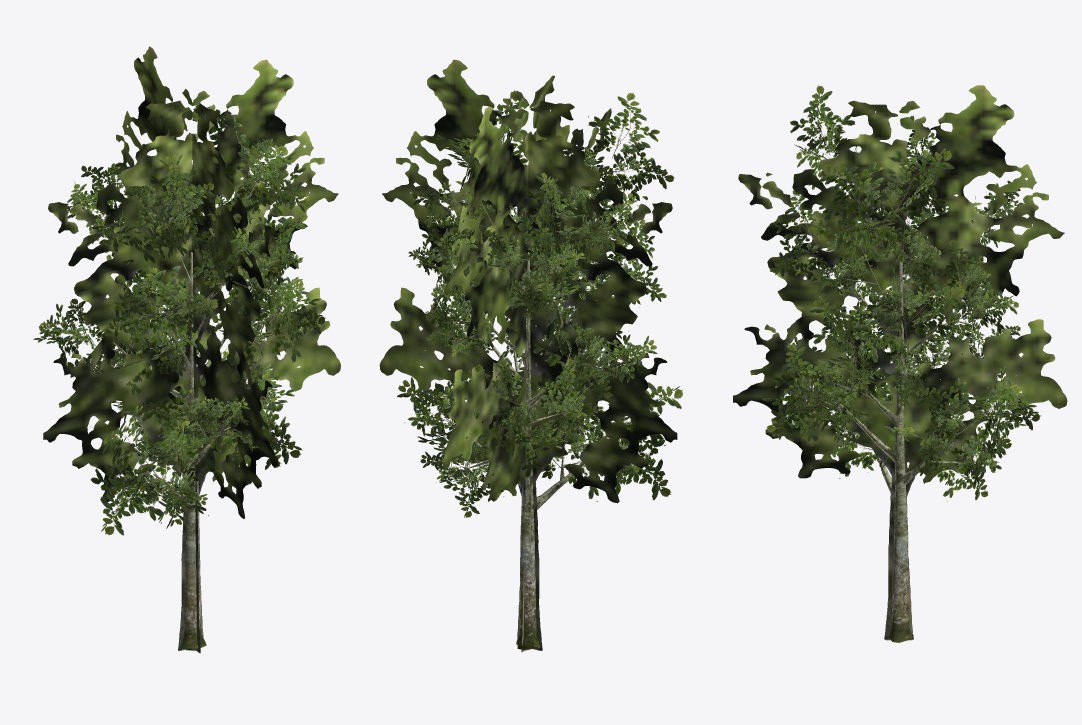
The model's file is Tree-Beech2A-mobile.fbx.
3 views of the same model, side by side, from view 1: azimuth 30°, elevation 25°; view 2: azimuth 150°, elevation 25°; view 3: azimuth 270°, elevation 25° (orthographic). The views are drawn at different scales.
Parts seen in each view (by area): view 1: Billboard-BeechA, Tree-Beech2A-mobile_LOD0; view 2: Billboard-BeechA, Tree-Beech2A-mobile_LOD0; view 3: Billboard-BeechA, Tree-Beech2A-mobile_LOD0.
Part boxes in pixels (x1=…): Billboard-BeechA: x1=43, y1=46, x2=340, y2=653; Tree-Beech2A-mobile_LOD0: x1=33, y1=105, x2=325, y2=650; Billboard-BeechA: x1=379, y1=59, x2=677, y2=652; Tree-Beech2A-mobile_LOD0: x1=397, y1=90, x2=682, y2=650; Billboard-BeechA: x1=733, y1=85, x2=1067, y2=640; Tree-Beech2A-mobile_LOD0: x1=762, y1=85, x2=1040, y2=642.
Size of what is drawn, in the model's own units: 1712 by 3101 by 1694.
